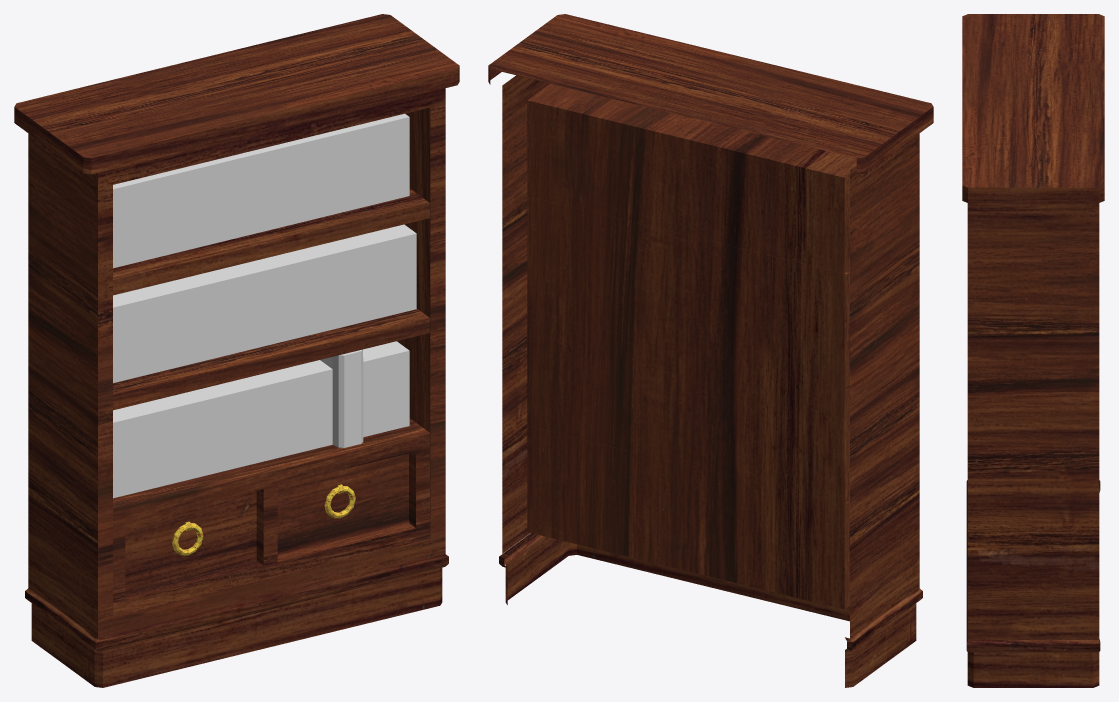
Rendered from Estanteria_3.fbx.
3 views of the same model, side by side, from view 1: azimuth 30°, elevation 25°; view 2: azimuth 150°, elevation 25°; view 3: azimuth 270°, elevation 25° (orthographic). The views are drawn at different scales.
Visible parts, largest first — view 1: Plane.368; view 2: Plane.368; view 3: Plane.368.
Part boxes in pixels (x1,y1,x2,y2): Plane.368: (14, 14, 459, 687); Plane.368: (488, 14, 933, 687); Plane.368: (962, 14, 1104, 687).
Bounding box in the file's own units: 168 × 229 × 58.21.
